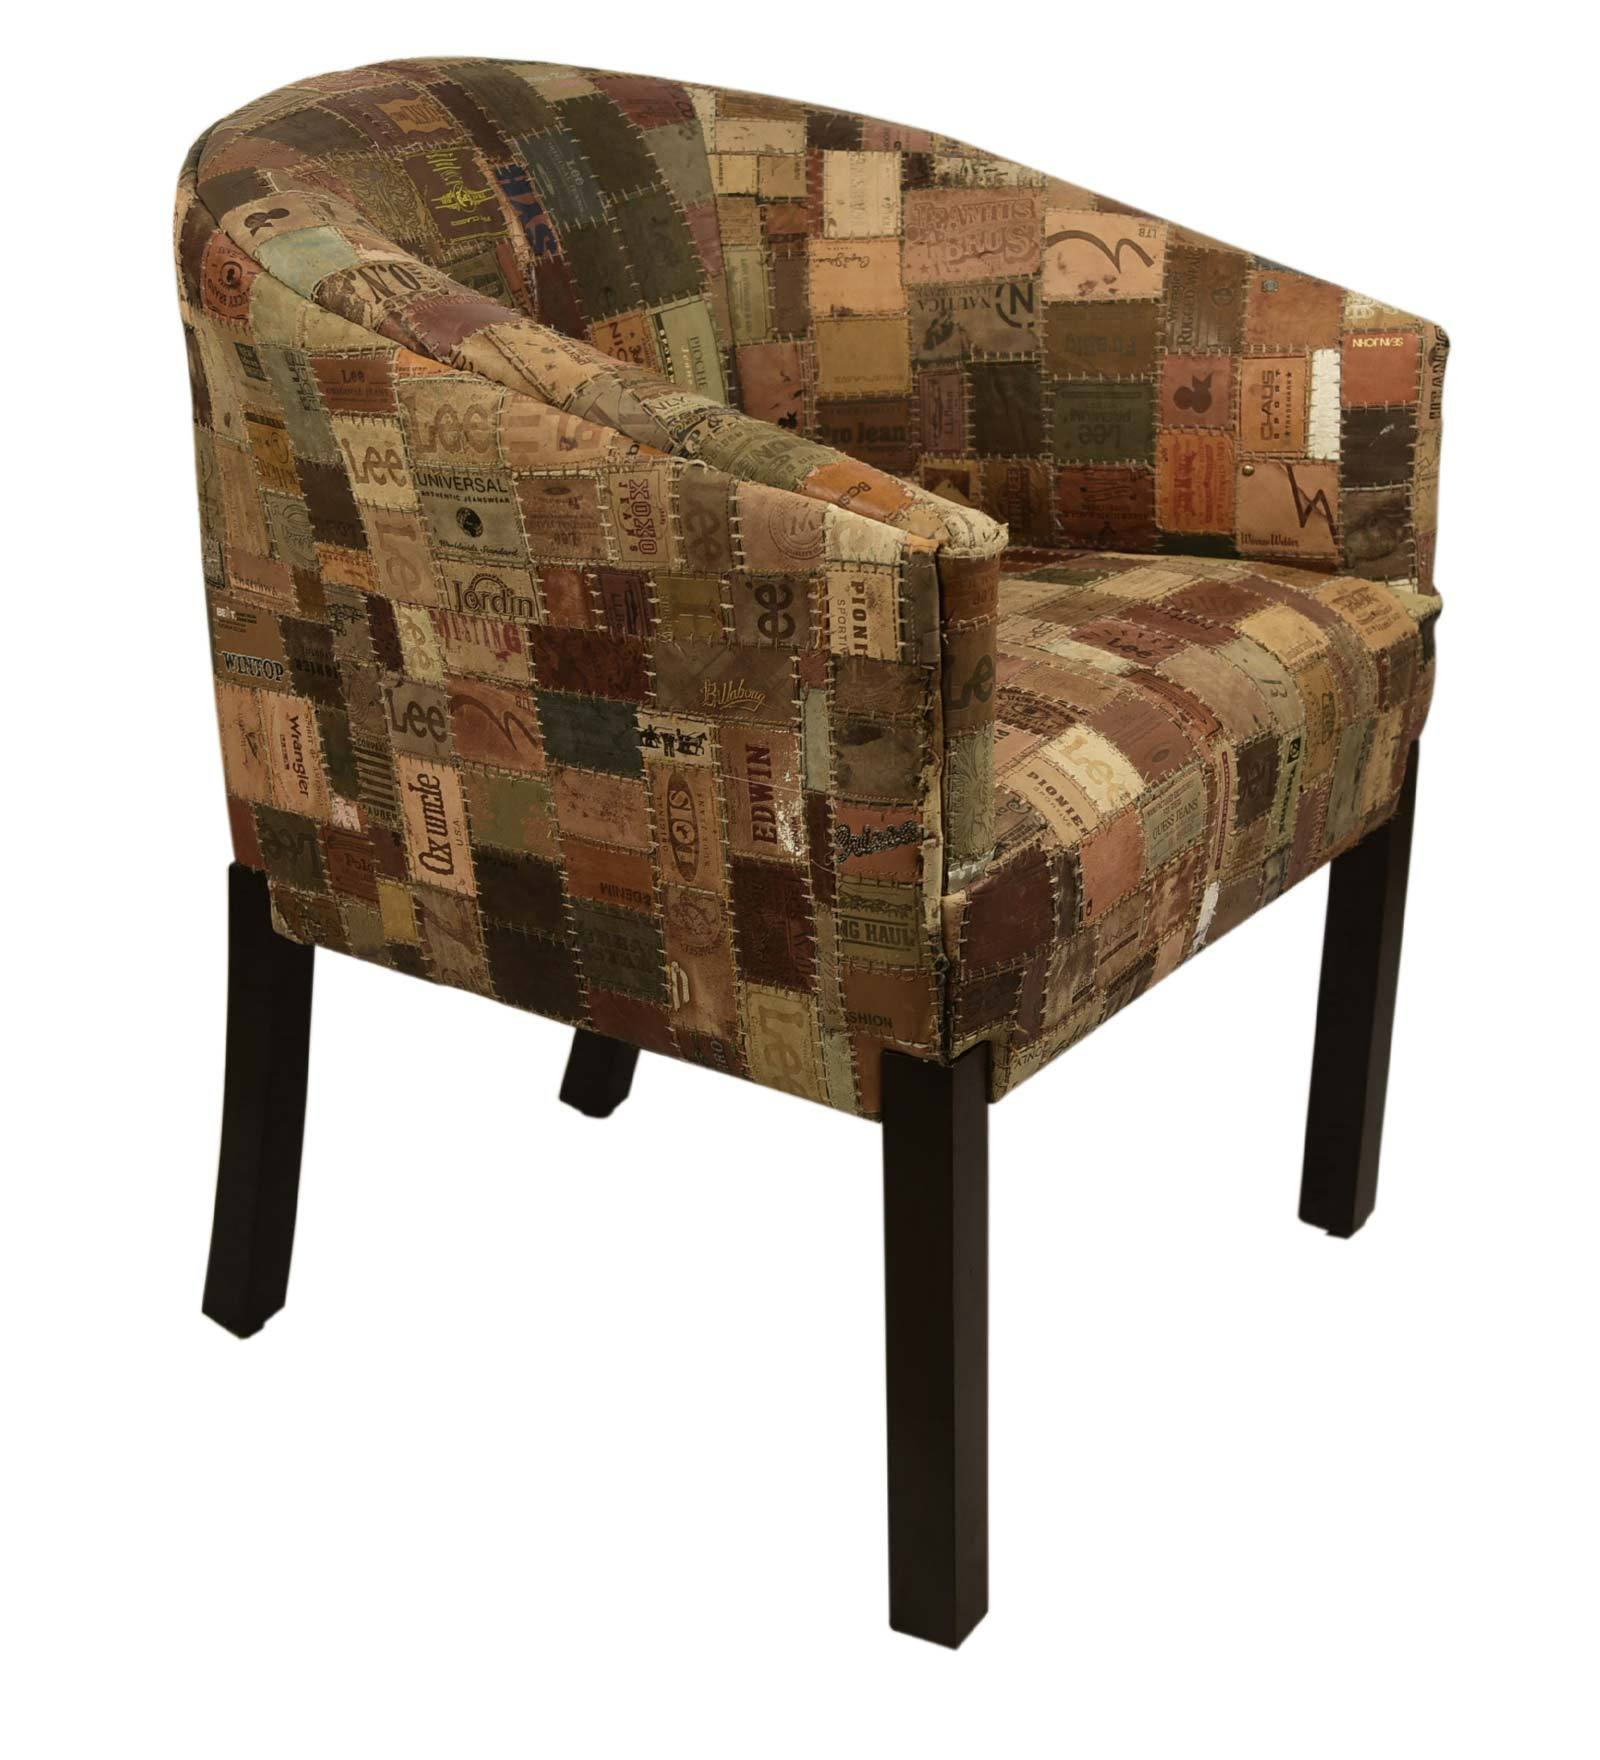Toby Tob Innova Chair with Denim Label Patch Design by Inliving: (121, 40, 1476, 1708)
